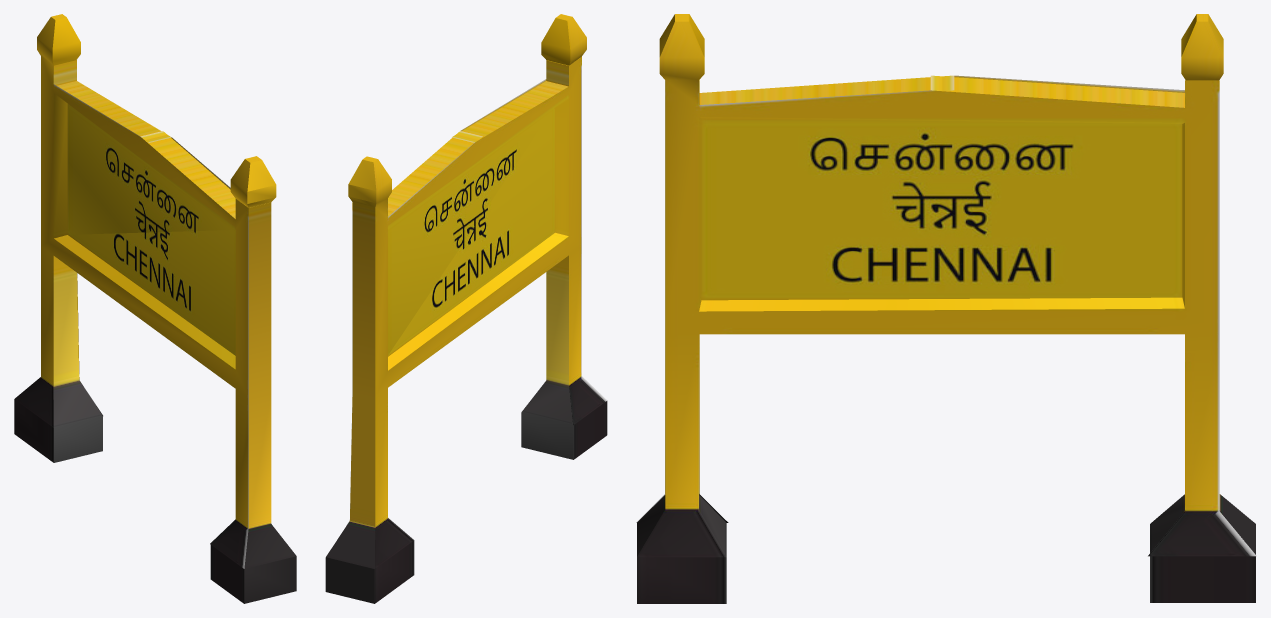
File: railway_station_board_3d.glb
3 renders of one model, left to right at view 1: azimuth 30°, elevation 25°; view 2: azimuth 150°, elevation 25°; view 3: azimuth 270°, elevation 25°, orthographic. The views are drawn at different scales.
Parts seen in each view (by area): view 1: Object_2; view 2: Object_2; view 3: Object_2.
Part boxes in pixels (x1=…): Object_2: x1=14, y1=14, x2=296, y2=603; Object_2: x1=325, y1=14, x2=607, y2=603; Object_2: x1=636, y1=14, x2=1256, y2=603.
Bounding box in the file's own units: 0.127 × 0.9812 × 0.9701.
1 material, 1 textured.
